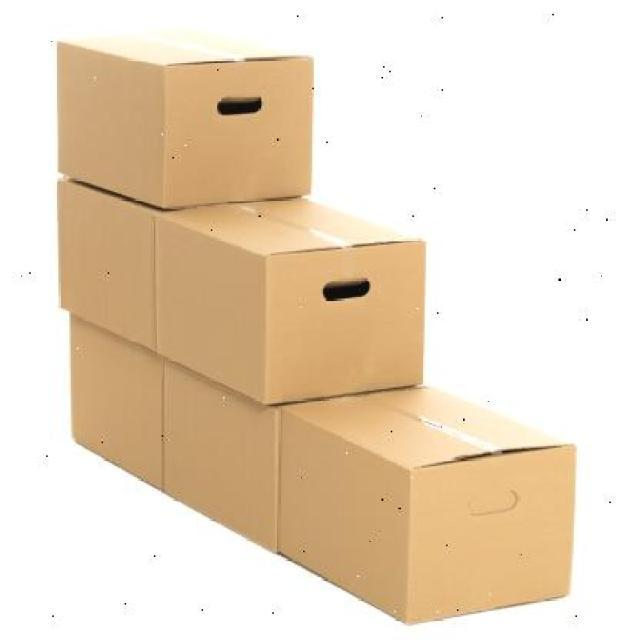BoxFace: (280, 407, 408, 627), (162, 356, 278, 554), (157, 211, 266, 404), (54, 41, 162, 207), (58, 179, 156, 353), (70, 312, 162, 490)
